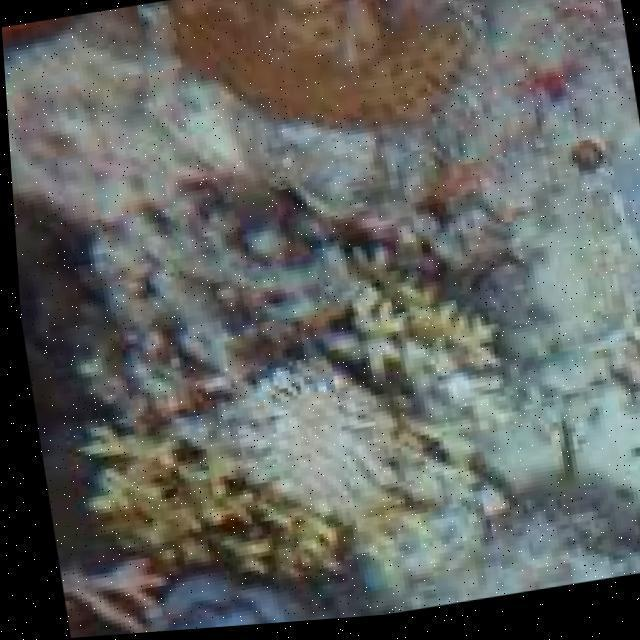Bleached Coral: (214, 351, 416, 535)
